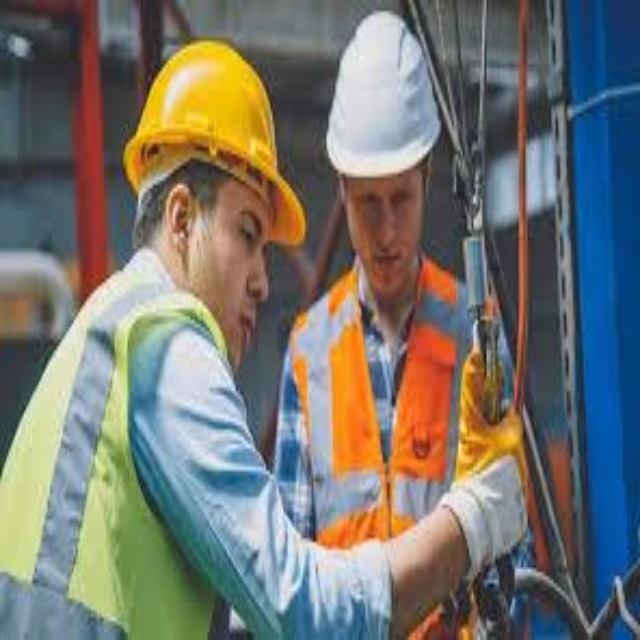Guantes: (451, 337, 532, 577)
